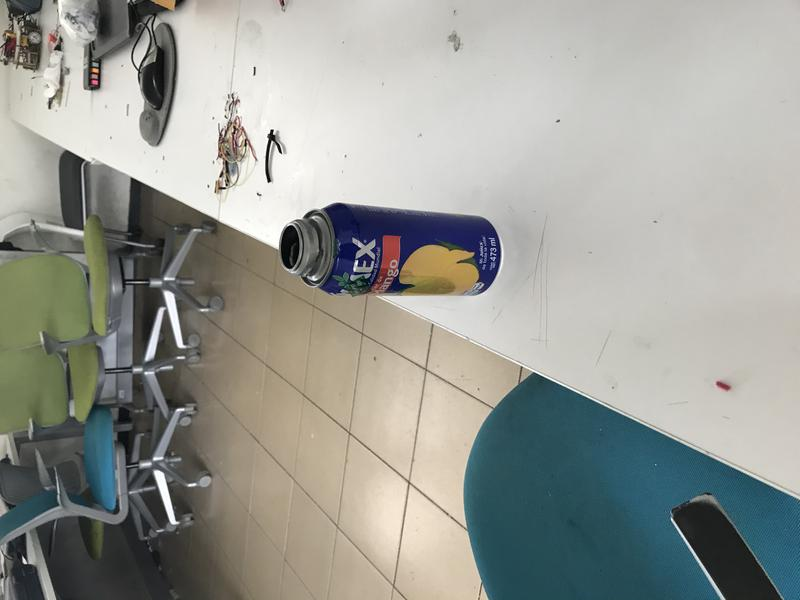jumex_botella: (278, 204, 507, 298)
